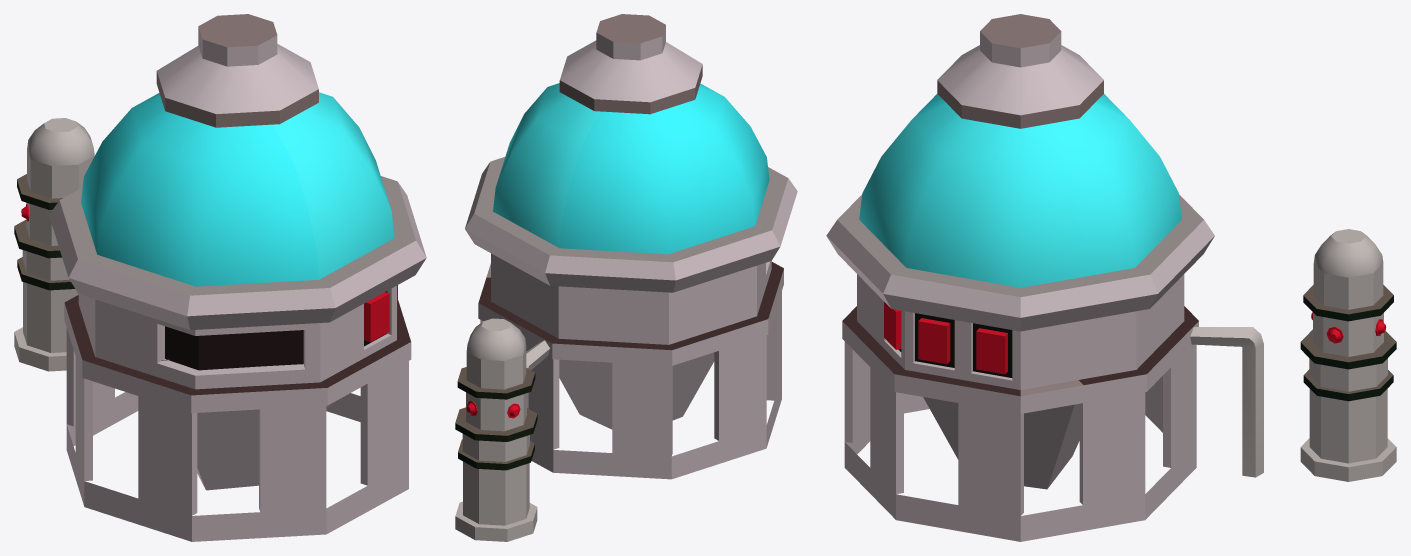
File: Clener water 1.fbx
3 renders of one model, left to right at view 1: azimuth 30°, elevation 25°; view 2: azimuth 150°, elevation 25°; view 3: azimuth 270°, elevation 25°, orthographic. The views are drawn at different scales.
Parts seen in each view (by area): view 1: Cylinder, Cylinder.001; view 2: Cylinder, Cylinder.001, Cylinder.003; view 3: Cylinder, Cylinder.001, Cylinder.003.
Boxes of the visible parts, <box> form: Cylinder: <box>49,14,426,541</box>; Cylinder.001: <box>14,118,94,371</box>; Cylinder: <box>465,14,797,479</box>; Cylinder.001: <box>455,318,537,541</box>; Cylinder.003: <box>526,340,549,408</box>; Cylinder: <box>826,14,1214,541</box>; Cylinder.001: <box>1300,229,1396,481</box>; Cylinder.003: <box>1190,327,1263,477</box>.
Size of what is drawn, in the model's own units: 221 by 273 by 324.
